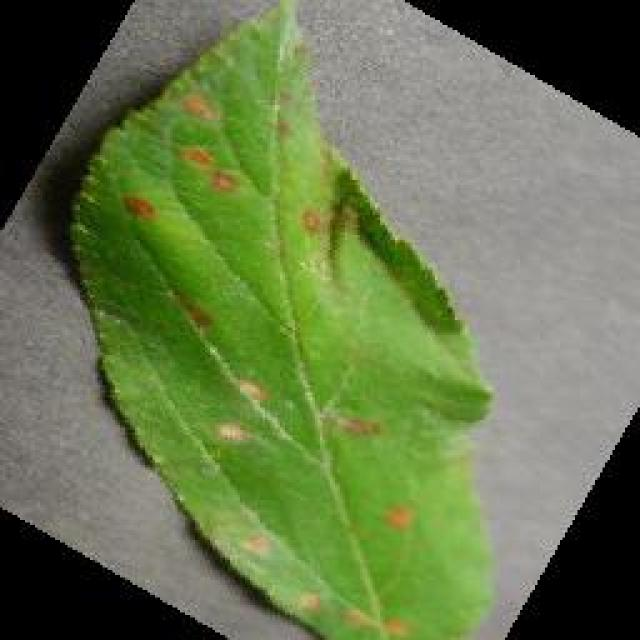apple healthy: (62, 0, 498, 638)
